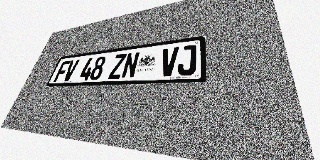4: (78, 57, 97, 81)
8: (89, 56, 107, 80)
F: (53, 60, 71, 82)
J: (177, 44, 197, 76)
N: (121, 52, 140, 79)
V: (159, 47, 179, 77), (62, 59, 80, 82)
Z: (108, 53, 127, 79)
